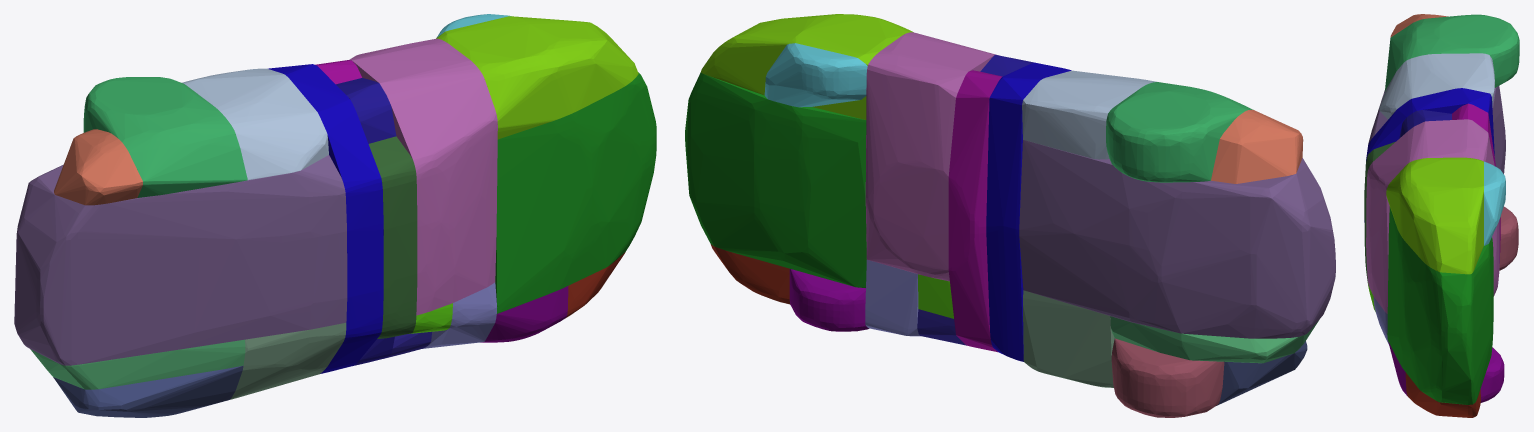
Rendered from coacd_collision.obj.
3 views of the same model, side by side, from view 1: azimuth 30°, elevation 25°; view 2: azimuth 150°, elevation 25°; view 3: azimuth 270°, elevation 25° (orthographic). The views are drawn at different scales.
Parts seen in each view (by area): view 1: geometry_1, geometry_8, geometry_7, geometry_4, geometry_10, geometry_5, geometry_6, geometry_19, geometry_16, geometry_3, geometry_0, geometry_9 (+7 smaller); view 2: geometry_1, geometry_8, geometry_7, geometry_10, geometry_14, geometry_5, geometry_4, geometry_6, geometry_0, geometry_13, geometry_2, geometry_9 (+8 smaller); view 3: geometry_8, geometry_4, geometry_7, geometry_10, geometry_6, geometry_5, geometry_2, geometry_15, geometry_11, geometry_1, geometry_13, geometry_14 (+4 smaller).
Boxes of the visible parts, <box> form: geometry_1: <box>14,155,347,365</box>; geometry_8: <box>495,72,656,313</box>; geometry_7: <box>349,38,497,315</box>; geometry_4: <box>436,16,638,139</box>; geometry_10: <box>83,77,247,197</box>; geometry_5: <box>268,64,383,373</box>; geometry_6: <box>181,68,328,180</box>; geometry_19: <box>368,136,417,338</box>; geometry_16: <box>53,365,243,417</box>; geometry_3: <box>30,339,245,389</box>; geometry_0: <box>230,323,346,399</box>; geometry_9: <box>54,129,142,205</box>; geometry_1: <box>1019,140,1335,338</box>; geometry_8: <box>685,72,866,287</box>; geometry_7: <box>865,32,999,281</box>; geometry_10: <box>1106,82,1253,182</box>; geometry_14: <box>948,70,1002,352</box>; geometry_5: <box>986,62,1071,361</box>; geometry_4: <box>701,14,913,119</box>; geometry_6: <box>1022,70,1156,159</box>; geometry_0: <box>1023,290,1114,387</box>; geometry_13: <box>1111,338,1224,417</box>; geometry_2: <box>764,43,867,107</box>; geometry_9: <box>1211,109,1303,183</box>; geometry_8: <box>1387,206,1493,404</box>; geometry_4: <box>1386,157,1483,274</box>; geometry_7: <box>1366,119,1499,313</box>; geometry_10: <box>1384,14,1519,91</box>; geometry_6: <box>1379,53,1494,119</box>; geometry_5: <box>1364,88,1494,222</box>; geometry_2: <box>1484,161,1505,245</box>; geometry_15: <box>1405,372,1480,417</box>; geometry_11: <box>1388,341,1504,402</box>; geometry_1: <box>1368,86,1505,173</box>; geometry_13: <box>1499,206,1518,270</box>; geometry_14: <box>1452,103,1500,263</box>.
Size of the model in its own units: 159 by 70.92 by 43.03.
